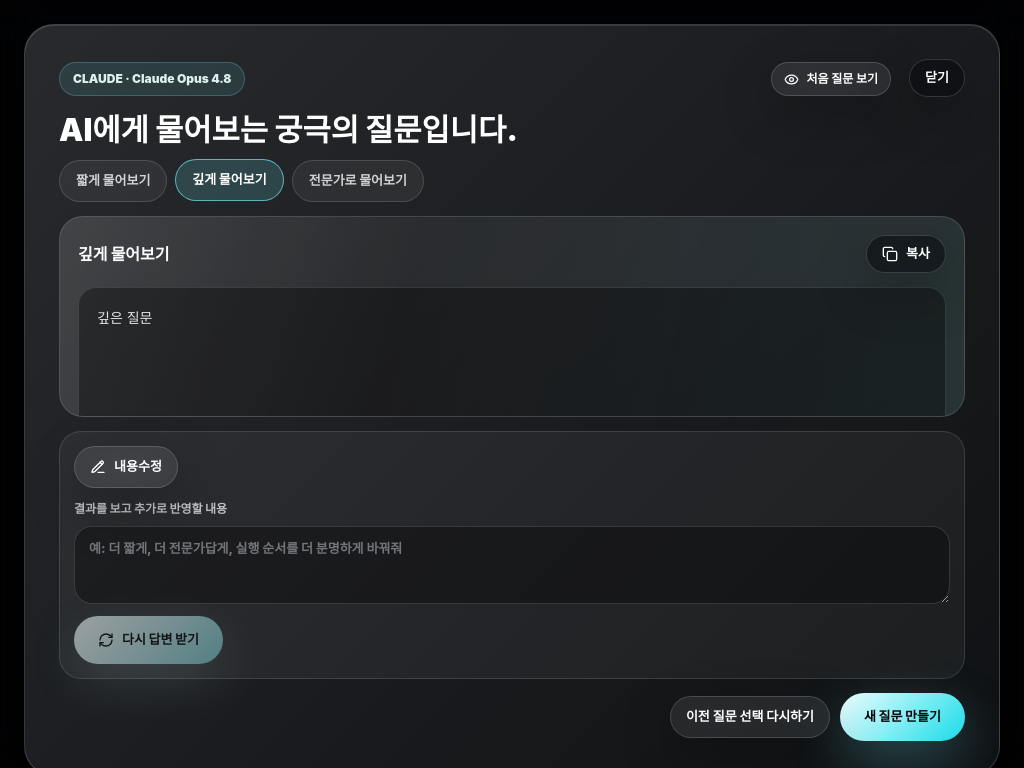
ResultModal › shows the generation model and original question context
Expected: the text "CLAUDE · Claude Opus 4.8" is shown, x1=59 y1=62 x2=245 y2=96
Click the button "처음 질문 보기" at (831, 79), box x1=770 y1=62 x2=891 y2=96
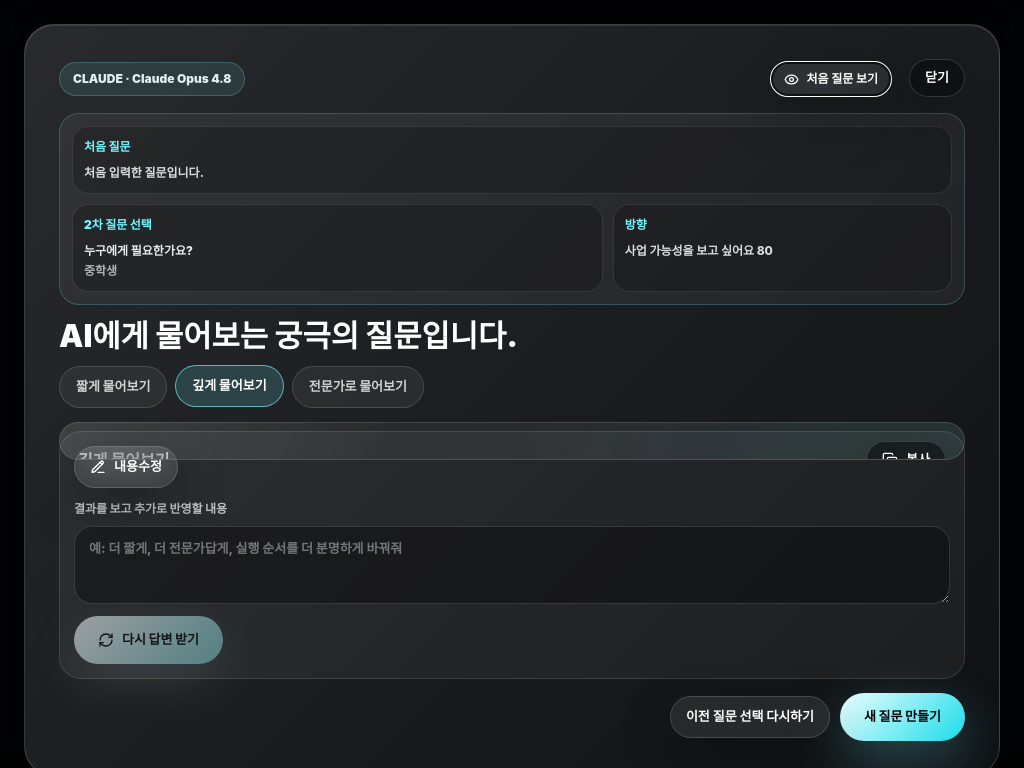
Now the text "처음 입력한 질문입니다." is shown, box x1=84 y1=165 x2=204 y2=180
Now the text "누구에게 필요한가요?" is shown, box x1=84 y1=243 x2=193 y2=258
